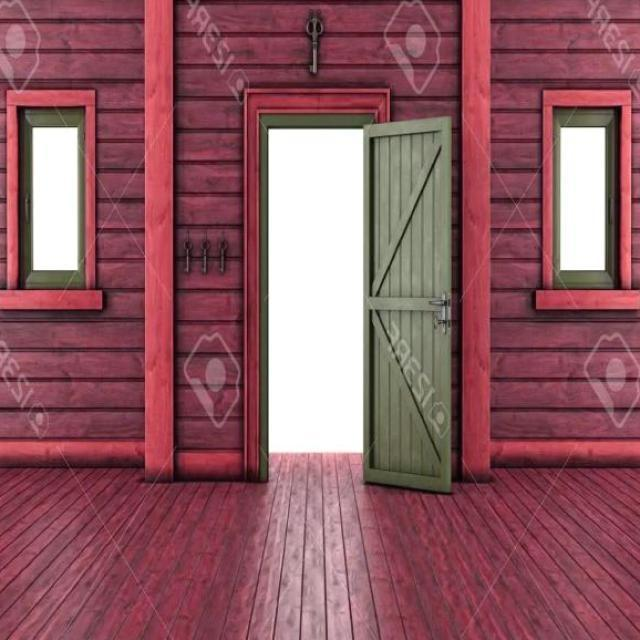door: (361, 114, 453, 493)
